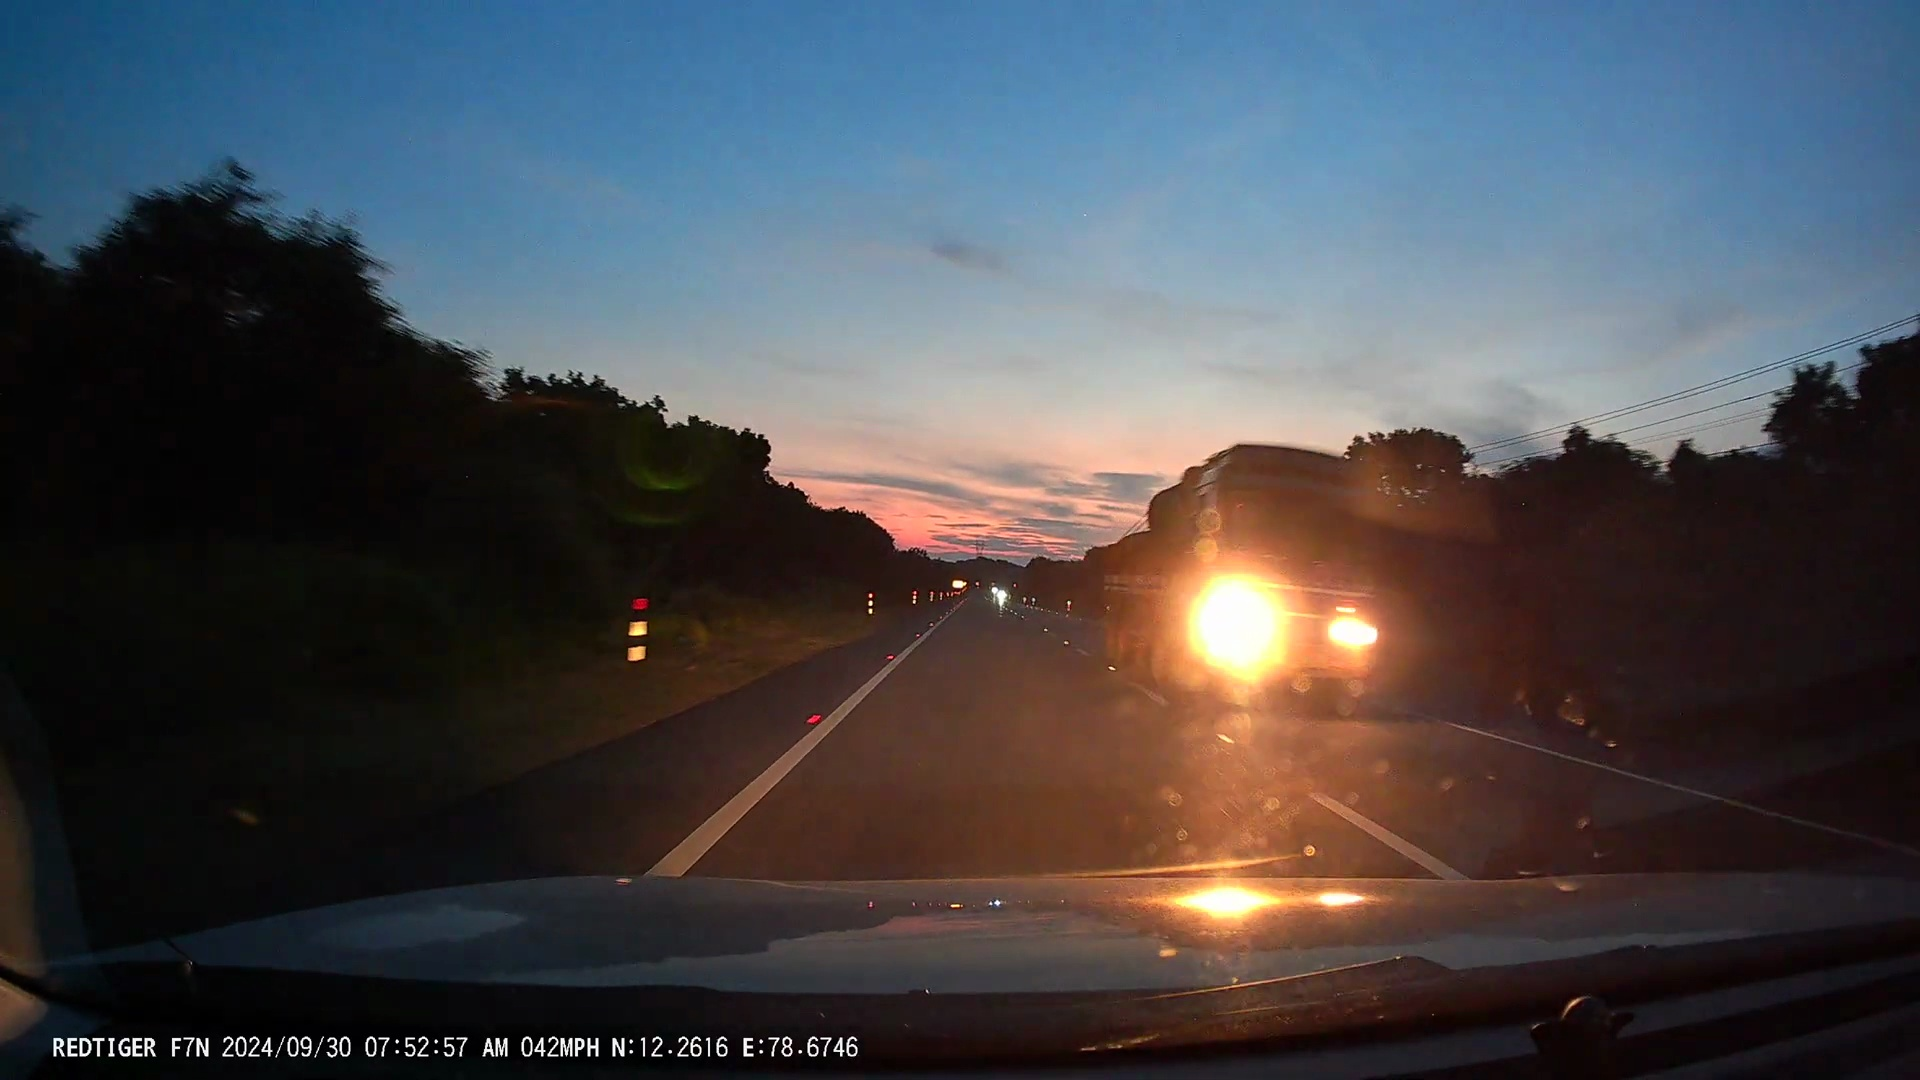four wheeler: (1077, 459, 1404, 717)
headlight: (1188, 580, 1287, 676), (1325, 618, 1382, 647), (993, 589, 1007, 604), (989, 583, 998, 593)
two wheeler: (981, 579, 1019, 611)
